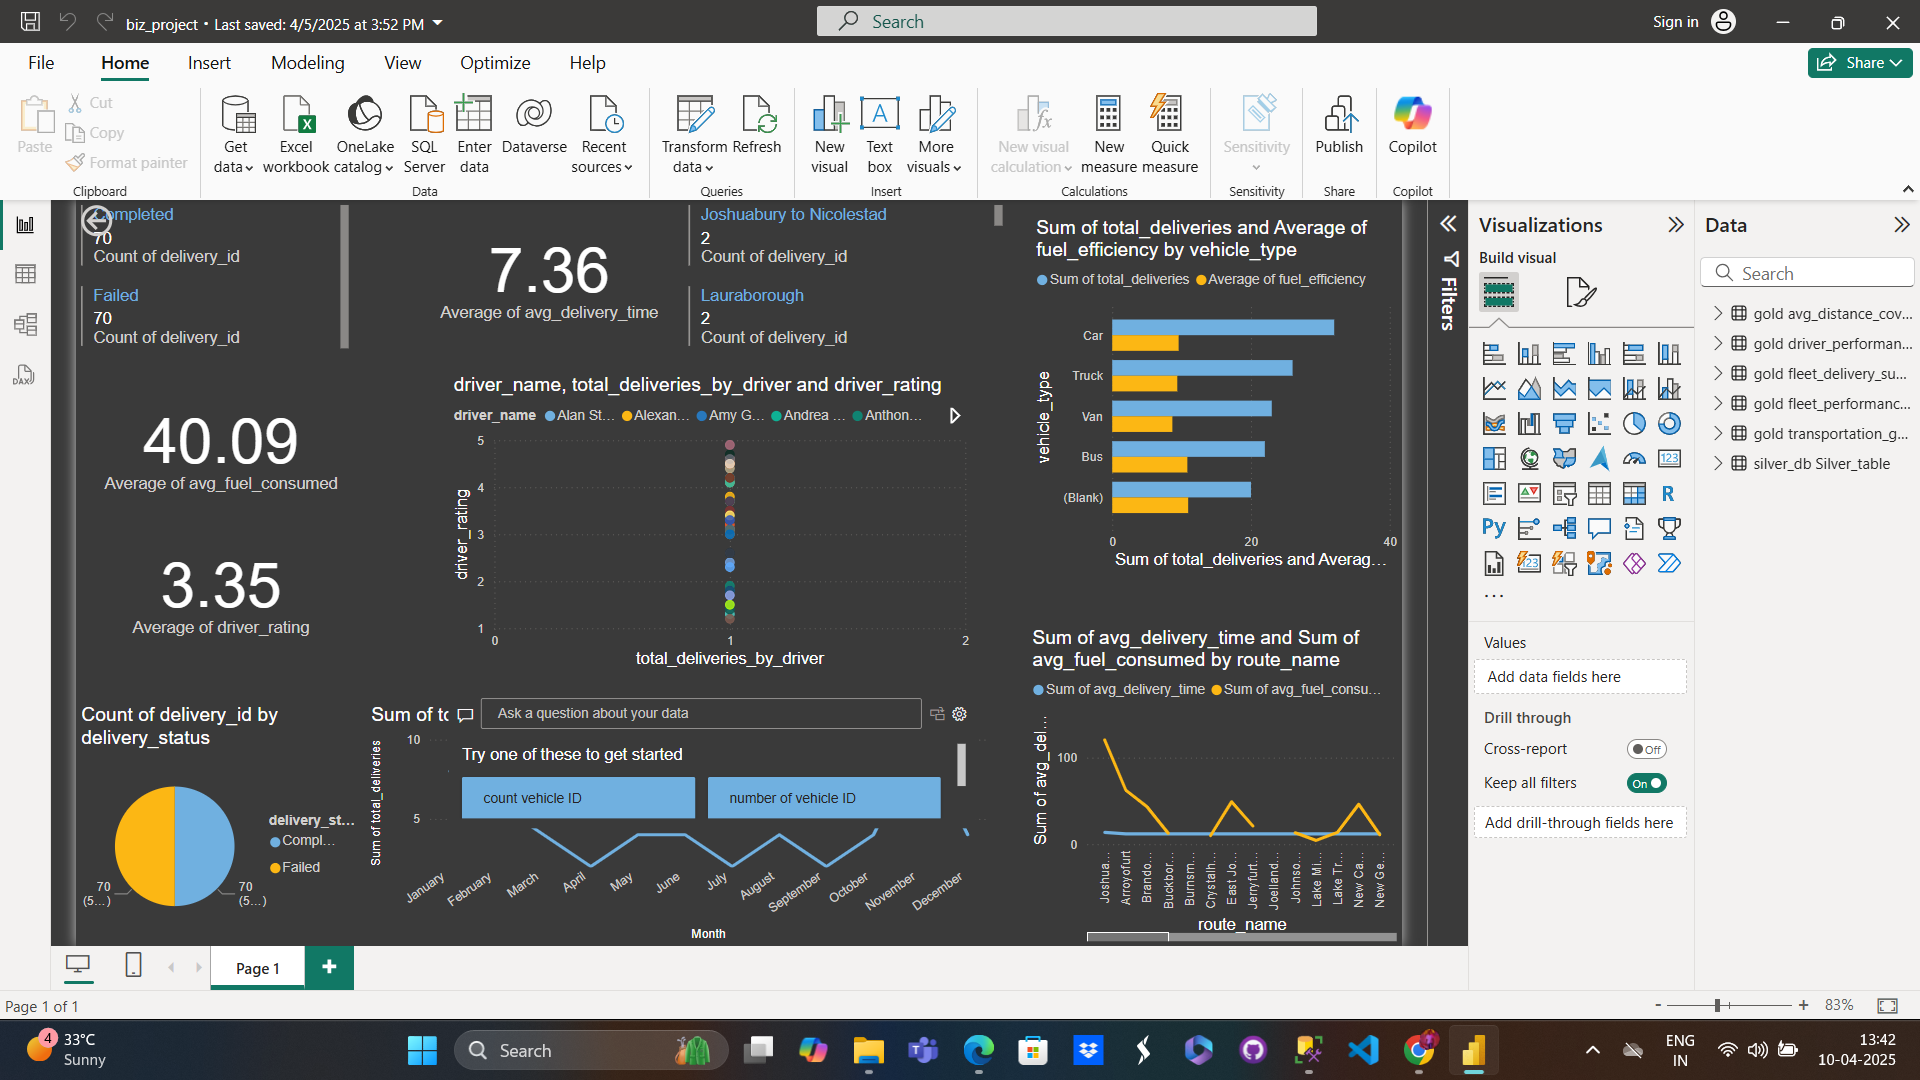

The page's visual inventory and layout, read from the dashboard file:
{"tool":"powerbi","page":{"name":"Page 1","canvas":[1280,720],"ordinal":0},"visuals":[{"type":"card","fields":{"Values":["Avg(gold transportation_gold.avg_delivery_time)"]},"box":[327.7,0,257.7,143.4],"z":0},{"type":"card","fields":{"Values":["Avg(gold transportation_gold.avg_fuel_consumed)"]},"box":[0,162.1,279.9,150.2],"z":2},{"type":"card","fields":{"Values":["Avg(gold transportation_gold.driver_rating)"]},"box":[0,300.4,279.9,150.2],"z":3},{"type":"card","fields":{"Values":["CountNonNull(silver_db Silver_table.delivery_id)"]},"box":[614.4,570,221.9,150.2],"z":4},{"type":"lineChart","fields":{"Category":["gold transportation_gold.route_name"],"Y":["Sum(gold transportation_gold.avg_delivery_time)","Sum(gold transportation_gold.avg_fuel_consumed)"]},"box":[918.2,411.3,361.8,308.9],"z":5},{"type":"clusteredBarChart","fields":{"Category":["gold fleet_performance2.vehicle_type"],"Y":["Sum(gold fleet_performance2.total_deliveries)","Avg(gold fleet_performance2.fuel_efficiency)"]},"box":[921.6,15.4,358.4,344.7],"z":6},{"type":"lineChart","fields":{"Category":["gold transportation_gold.report_date.Variation.Date Hierarchy.Month"],"Y":["Sum(gold transportation_gold.total_deliveries)"]},"box":[279.9,486.4,604.2,233.8],"z":8},{"type":"pieChart","fields":{"Category":["silver_db Silver_table.delivery_status"],"Y":["CountNonNull(silver_db Silver_table.delivery_id)"]},"box":[0,486,280,234],"z":9},{"type":"multiRowCard","fields":{"Values":["silver_db Silver_table.delivery_status","silver_db Silver_table.delivery_id"]},"box":[0,0,267.9,160.4],"z":10},{"type":"actionButton","box":[0,0,100,40],"z":11},{"type":"multiRowCard","fields":{"Values":["silver_db Silver_table.delivery_id","silver_db Silver_table.route_name"]},"box":[586,0,313,150],"z":12},{"type":"scatterChart","fields":{"X":["gold transportation_gold.total_deliveries_by_driver"],"Y":["gold transportation_gold.driver_rating"],"Series":["gold transportation_gold.driver_name"]},"box":[360.1,167.3,508.6,288.4],"z":13},{"type":"qnaVisual","box":[360.1,455.7,508.6,150],"z":14}]}

Visuals, with their boxes on the page's 1280x720 design canvas (x1, y1, x2, y2). These are canvas units, not pixel positions in the 1920x1080 screenshot, which may show the page scaled, cropped or inside an application window:
card - Avg(gold transportation_gold.avg_delivery_time): x1=328, y1=0, x2=585, y2=143
card - Avg(gold transportation_gold.avg_fuel_consumed): x1=0, y1=162, x2=280, y2=312
card - Avg(gold transportation_gold.driver_rating): x1=0, y1=300, x2=280, y2=451
card - CountNonNull(silver_db Silver_table.delivery_id): x1=614, y1=570, x2=836, y2=720
lineChart - gold transportation_gold.route_name x Sum(gold transportation_gold.avg_delivery_time): x1=918, y1=411, x2=1280, y2=720
clusteredBarChart - gold fleet_performance2.vehicle_type x Sum(gold fleet_performance2.total_deliveries): x1=922, y1=15, x2=1280, y2=360
lineChart - gold transportation_gold.report_date.Variation.Date Hierarchy.Month x Sum(gold transportation_gold.total_deliveries): x1=280, y1=486, x2=884, y2=720
pieChart - silver_db Silver_table.delivery_status x CountNonNull(silver_db Silver_table.delivery_id): x1=0, y1=486, x2=280, y2=720
multiRowCard - silver_db Silver_table.delivery_status x silver_db Silver_table.delivery_id: x1=0, y1=0, x2=268, y2=160
actionButton: x1=0, y1=0, x2=100, y2=40
multiRowCard - silver_db Silver_table.delivery_id x silver_db Silver_table.route_name: x1=586, y1=0, x2=899, y2=150
scatterChart - gold transportation_gold.total_deliveries_by_driver x gold transportation_gold.driver_rating: x1=360, y1=167, x2=869, y2=456
qnaVisual: x1=360, y1=456, x2=869, y2=606
